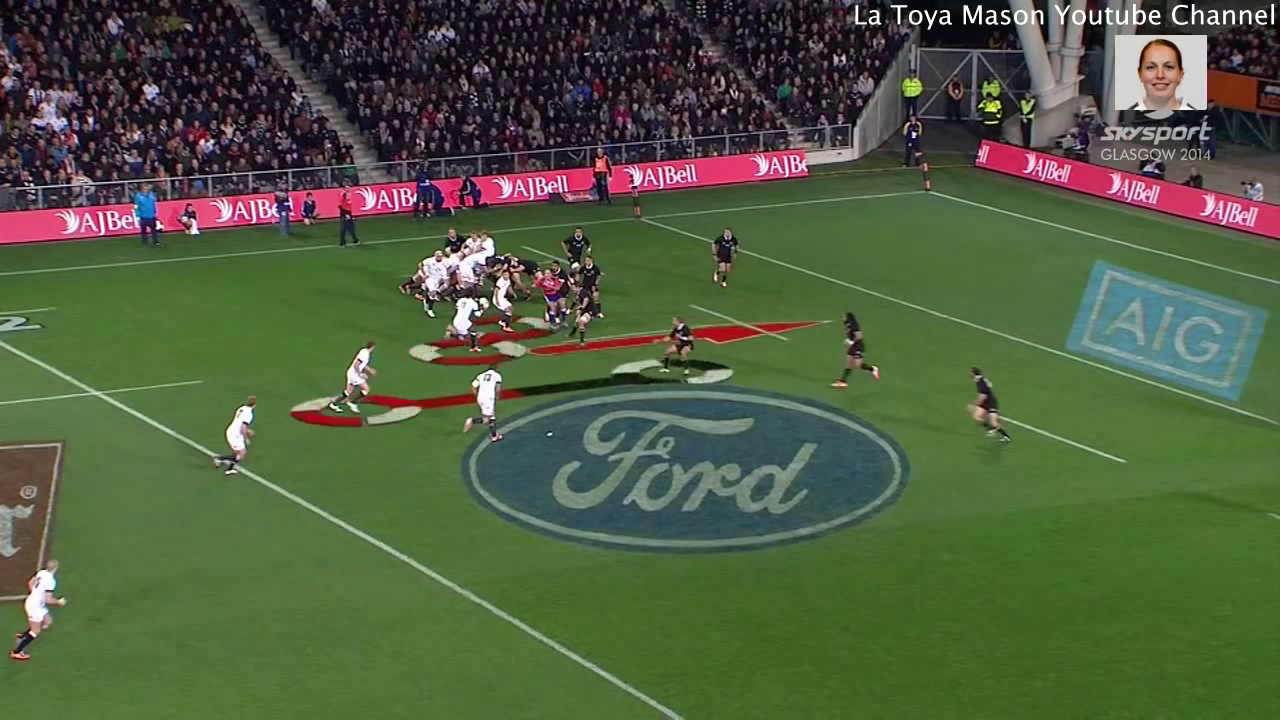ball: (474, 292, 490, 312)
maul: (404, 245, 539, 307)
player: (7, 557, 63, 669), (960, 359, 1019, 453), (209, 393, 262, 475), (461, 356, 504, 446), (831, 306, 877, 388), (701, 227, 746, 292), (342, 338, 380, 405), (444, 286, 483, 350), (418, 247, 449, 321), (655, 314, 695, 370), (531, 269, 565, 331), (570, 283, 595, 349), (493, 266, 515, 336), (576, 256, 605, 302), (562, 223, 590, 267), (445, 228, 462, 254)
